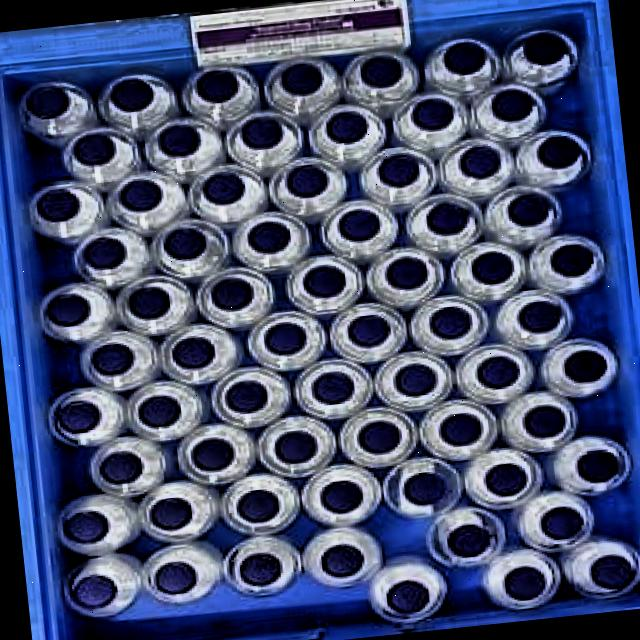vial: (187, 435, 240, 474), (342, 310, 396, 348), (131, 392, 183, 431), (269, 427, 320, 466), (504, 190, 555, 229), (158, 224, 210, 262), (436, 409, 486, 448), (425, 303, 475, 342), (354, 418, 405, 456), (469, 248, 518, 287), (41, 292, 94, 328), (424, 199, 474, 237), (473, 352, 522, 390), (261, 319, 310, 357), (88, 340, 137, 378), (235, 550, 285, 587), (244, 219, 294, 256), (549, 240, 595, 280), (317, 541, 365, 579), (522, 402, 567, 442), (97, 450, 147, 486), (78, 236, 128, 272), (308, 368, 355, 406), (116, 176, 164, 213), (123, 285, 172, 321), (202, 169, 248, 207), (223, 378, 269, 416), (539, 504, 586, 541), (283, 162, 330, 199), (208, 277, 256, 313), (153, 559, 198, 597), (74, 572, 119, 610), (375, 152, 421, 189), (167, 336, 217, 370), (562, 347, 609, 383), (391, 362, 438, 398), (335, 206, 382, 242), (315, 479, 363, 514), (155, 122, 203, 157), (299, 265, 348, 299), (589, 555, 634, 592), (26, 84, 71, 121), (148, 494, 194, 530), (514, 299, 560, 335), (521, 31, 569, 65), (383, 256, 428, 292), (402, 471, 448, 506), (64, 509, 110, 544), (109, 76, 155, 111), (535, 134, 582, 168), (384, 579, 428, 615), (237, 488, 281, 524), (57, 398, 101, 434), (483, 462, 529, 496), (324, 109, 370, 143), (36, 187, 82, 221), (361, 52, 403, 89), (578, 447, 621, 483), (456, 144, 500, 179), (195, 69, 239, 104), (504, 566, 549, 600), (490, 88, 533, 122), (443, 41, 487, 74), (280, 62, 324, 95), (447, 525, 492, 557), (412, 97, 454, 131), (242, 116, 284, 150), (71, 132, 114, 165)
